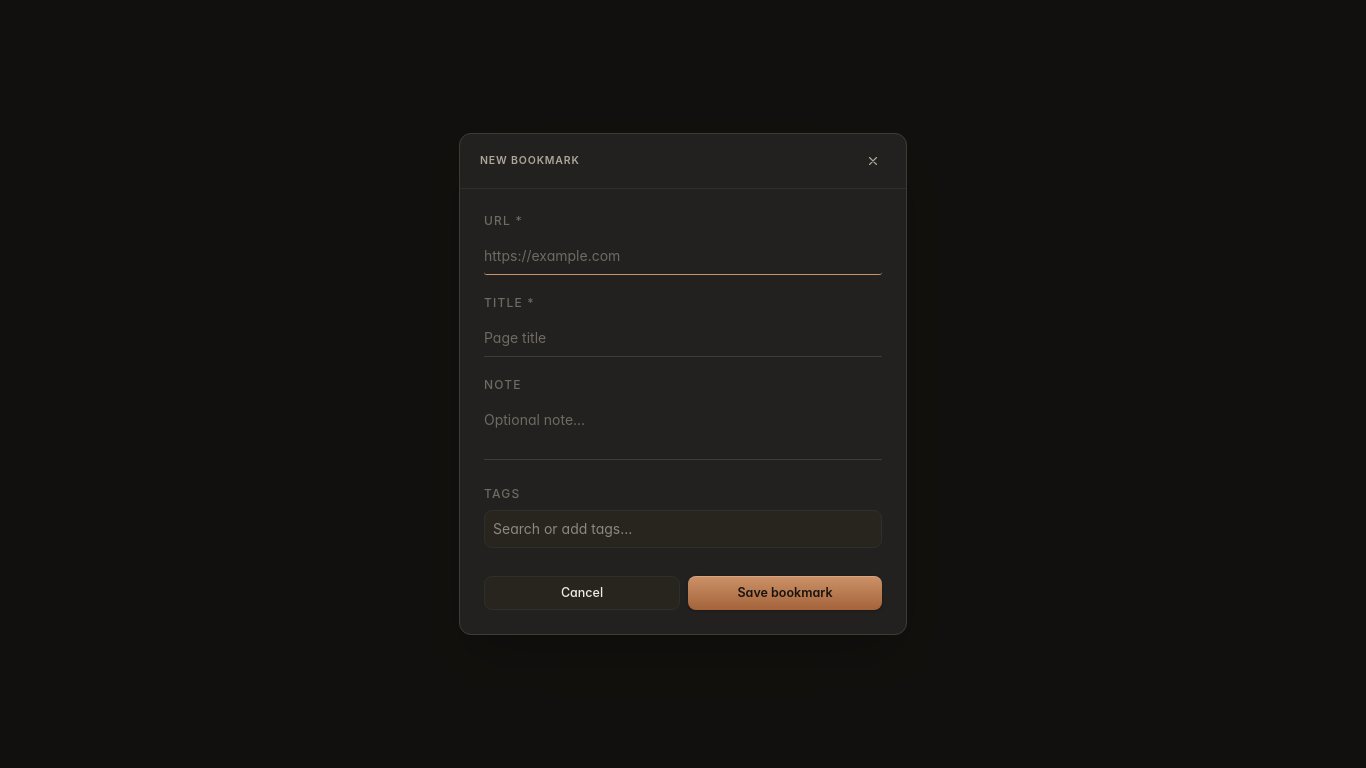
Test: AddBookmarkModal › shows a tag combobox to search existing tags
Click the dropdown.
click(683, 529)  # box [493,517,873,541]
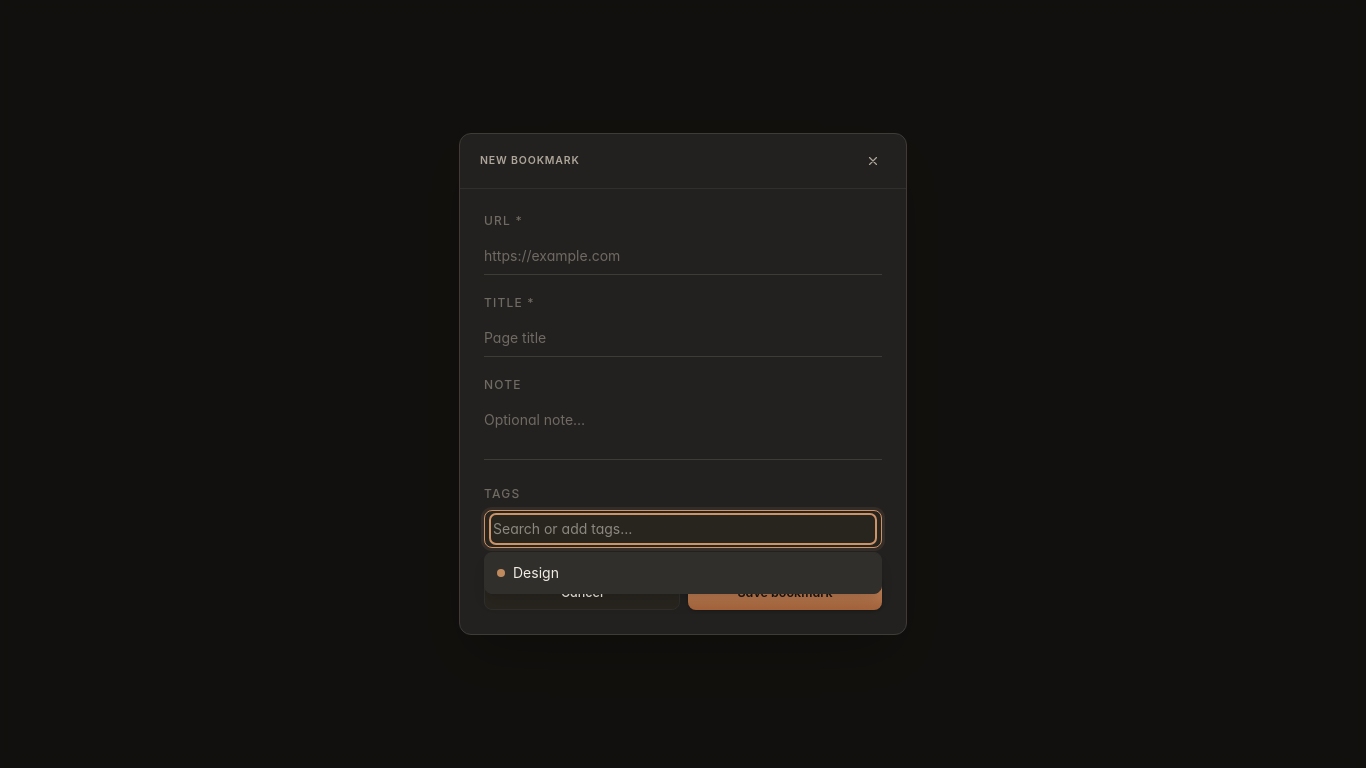
Expected: the option "Design" is shown, [497,564,559,581]
